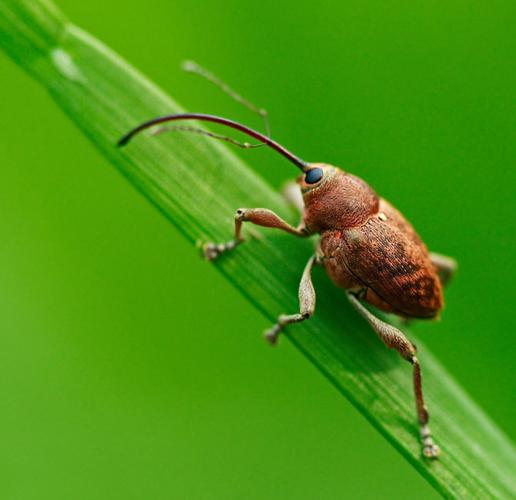Curculionidae: (115, 60, 457, 461)
